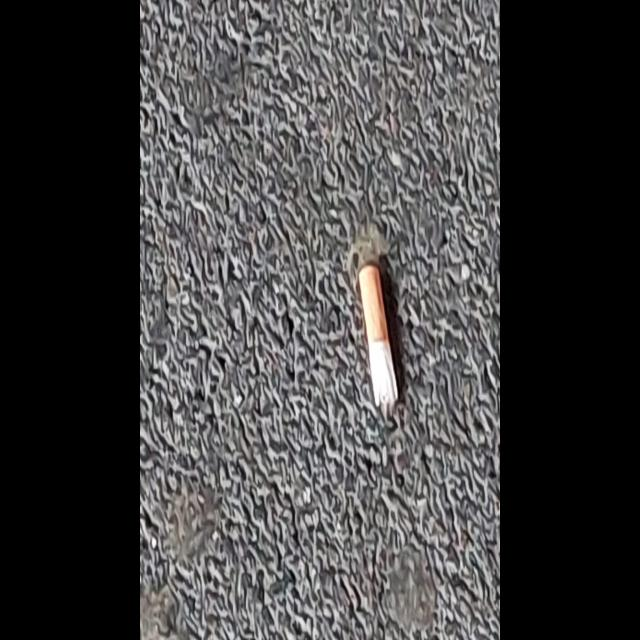other waste: (357, 263, 400, 407)
